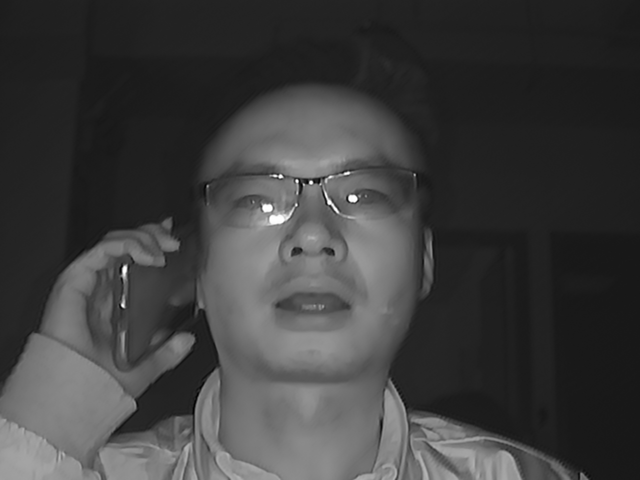hand: (53, 220, 181, 392)
